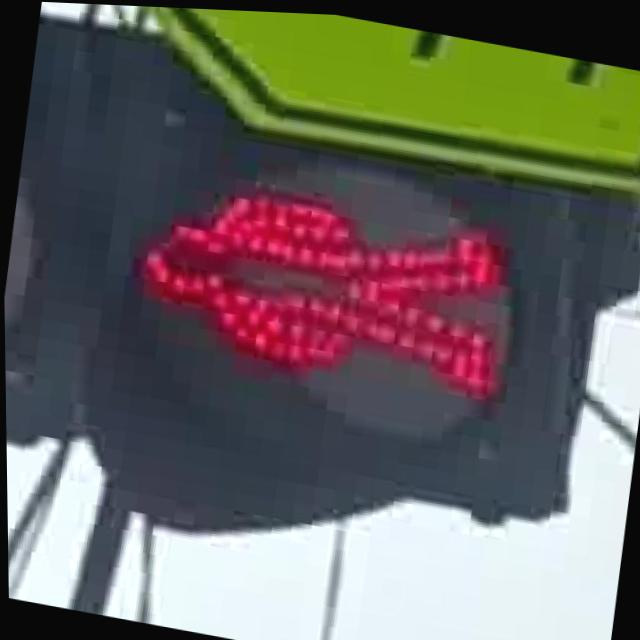red_light: (107, 149, 529, 426)
